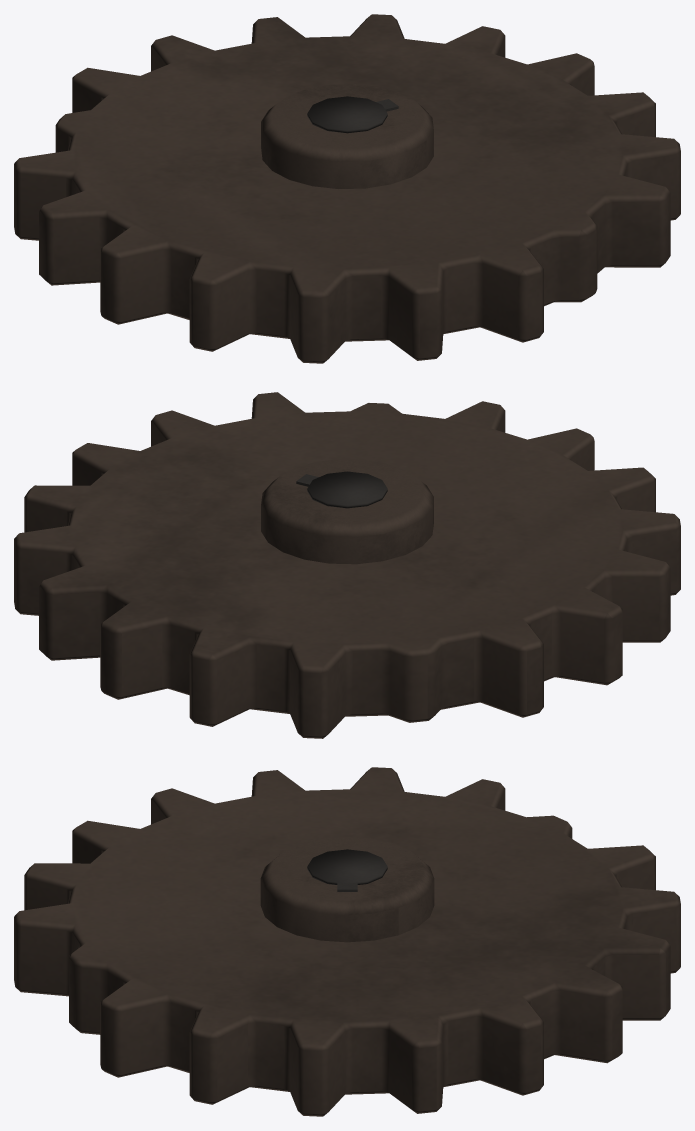
Rendered from prop_rusted_gear_01.gltf.
3 views of the same model, one above another, from view 1: azimuth 30°, elevation 25°; view 2: azimuth 150°, elevation 25°; view 3: azimuth 270°, elevation 25° (orthographic).
Parts seen in each view (by area): view 1: prop_rusted_gear_01_item_atlas_01; view 2: prop_rusted_gear_01_item_atlas_01; view 3: prop_rusted_gear_01_item_atlas_01.
Boxes of the visible parts, bbox=[...] form: prop_rusted_gear_01_item_atlas_01: bbox=[14, 14, 680, 363]; prop_rusted_gear_01_item_atlas_01: bbox=[14, 392, 680, 738]; prop_rusted_gear_01_item_atlas_01: bbox=[14, 767, 680, 1116].
Bounding box in the file's own units: 0.0996 × 0.0185 × 0.0998.
1 material, 1 textured.
